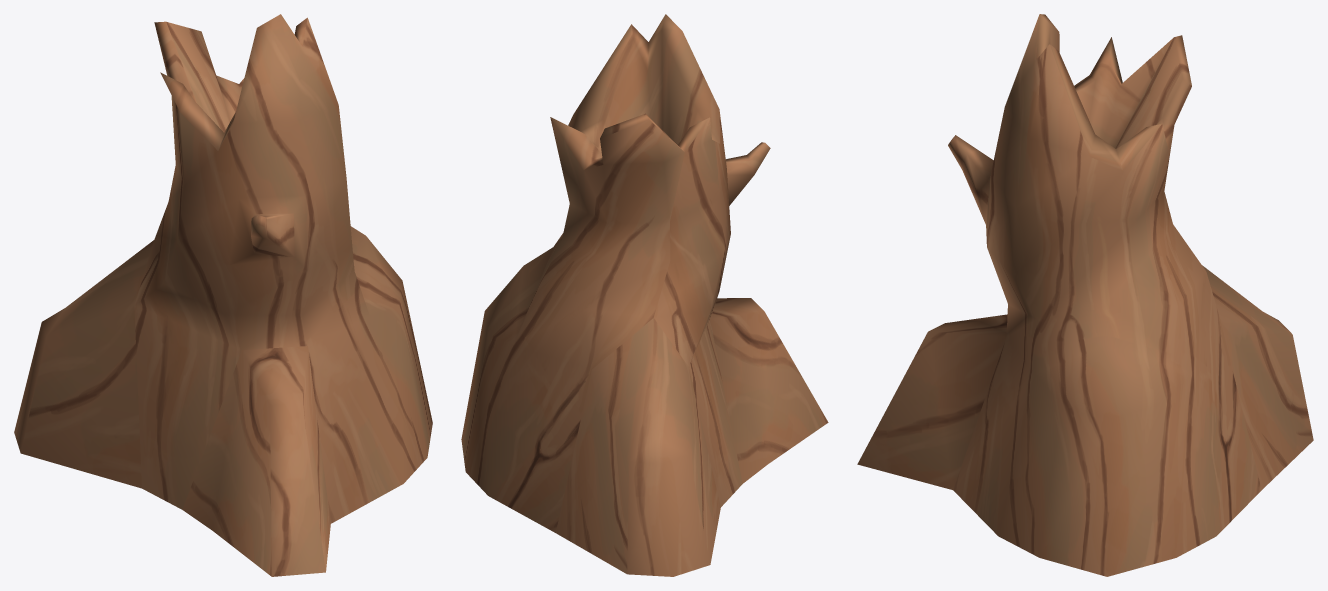
File: Fbx_DeadTree01.fbx
3 renders of one model, left to right at view 1: azimuth 30°, elevation 25°; view 2: azimuth 150°, elevation 25°; view 3: azimuth 270°, elevation 25°, orthographic. The views are drawn at different scales.
Parts seen in each view (by area): view 1: DeadTree01; view 2: DeadTree01; view 3: DeadTree01.
Part boxes in pixels (x1,y1,x2,y2): DeadTree01: [14, 14, 432, 576]; DeadTree01: [461, 14, 828, 576]; DeadTree01: [857, 14, 1313, 576].
Bounding box in the file's own units: 161 × 216 × 189.
1 material, 1 textured.
